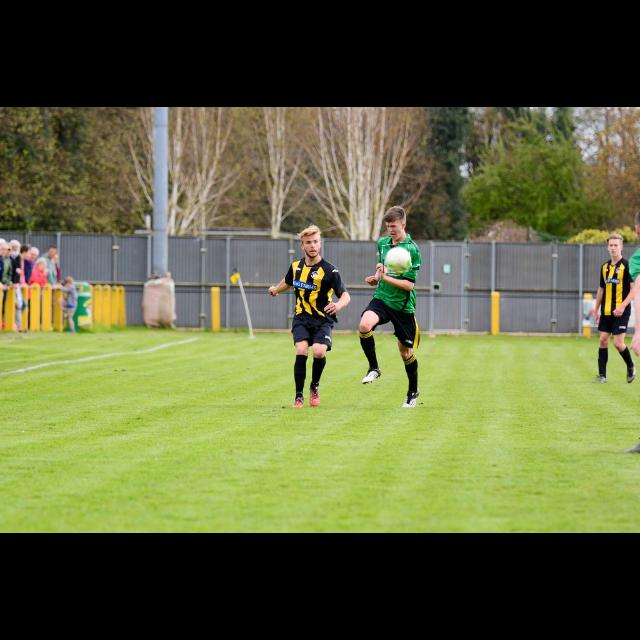Football: (383, 243, 411, 273)
